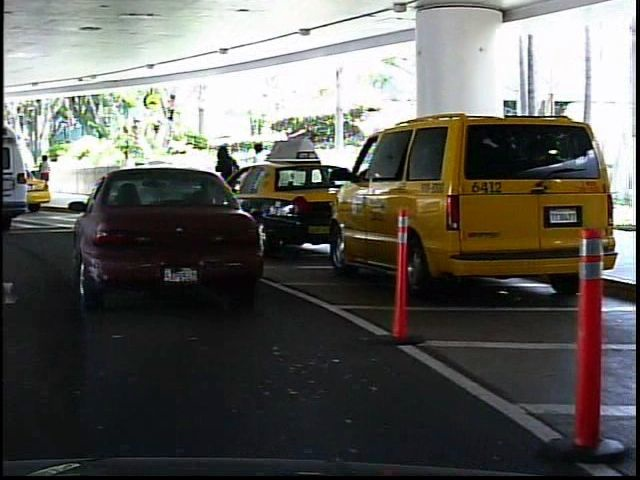person: (211, 140, 246, 212), (248, 138, 276, 211), (115, 144, 140, 204), (36, 152, 58, 199)
